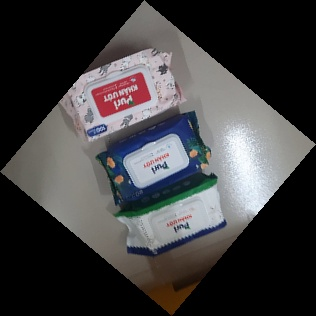Puri Trang: (113, 172, 231, 256)
Puri Xanh: (93, 111, 213, 207)
Puri hong: (57, 48, 187, 146)
